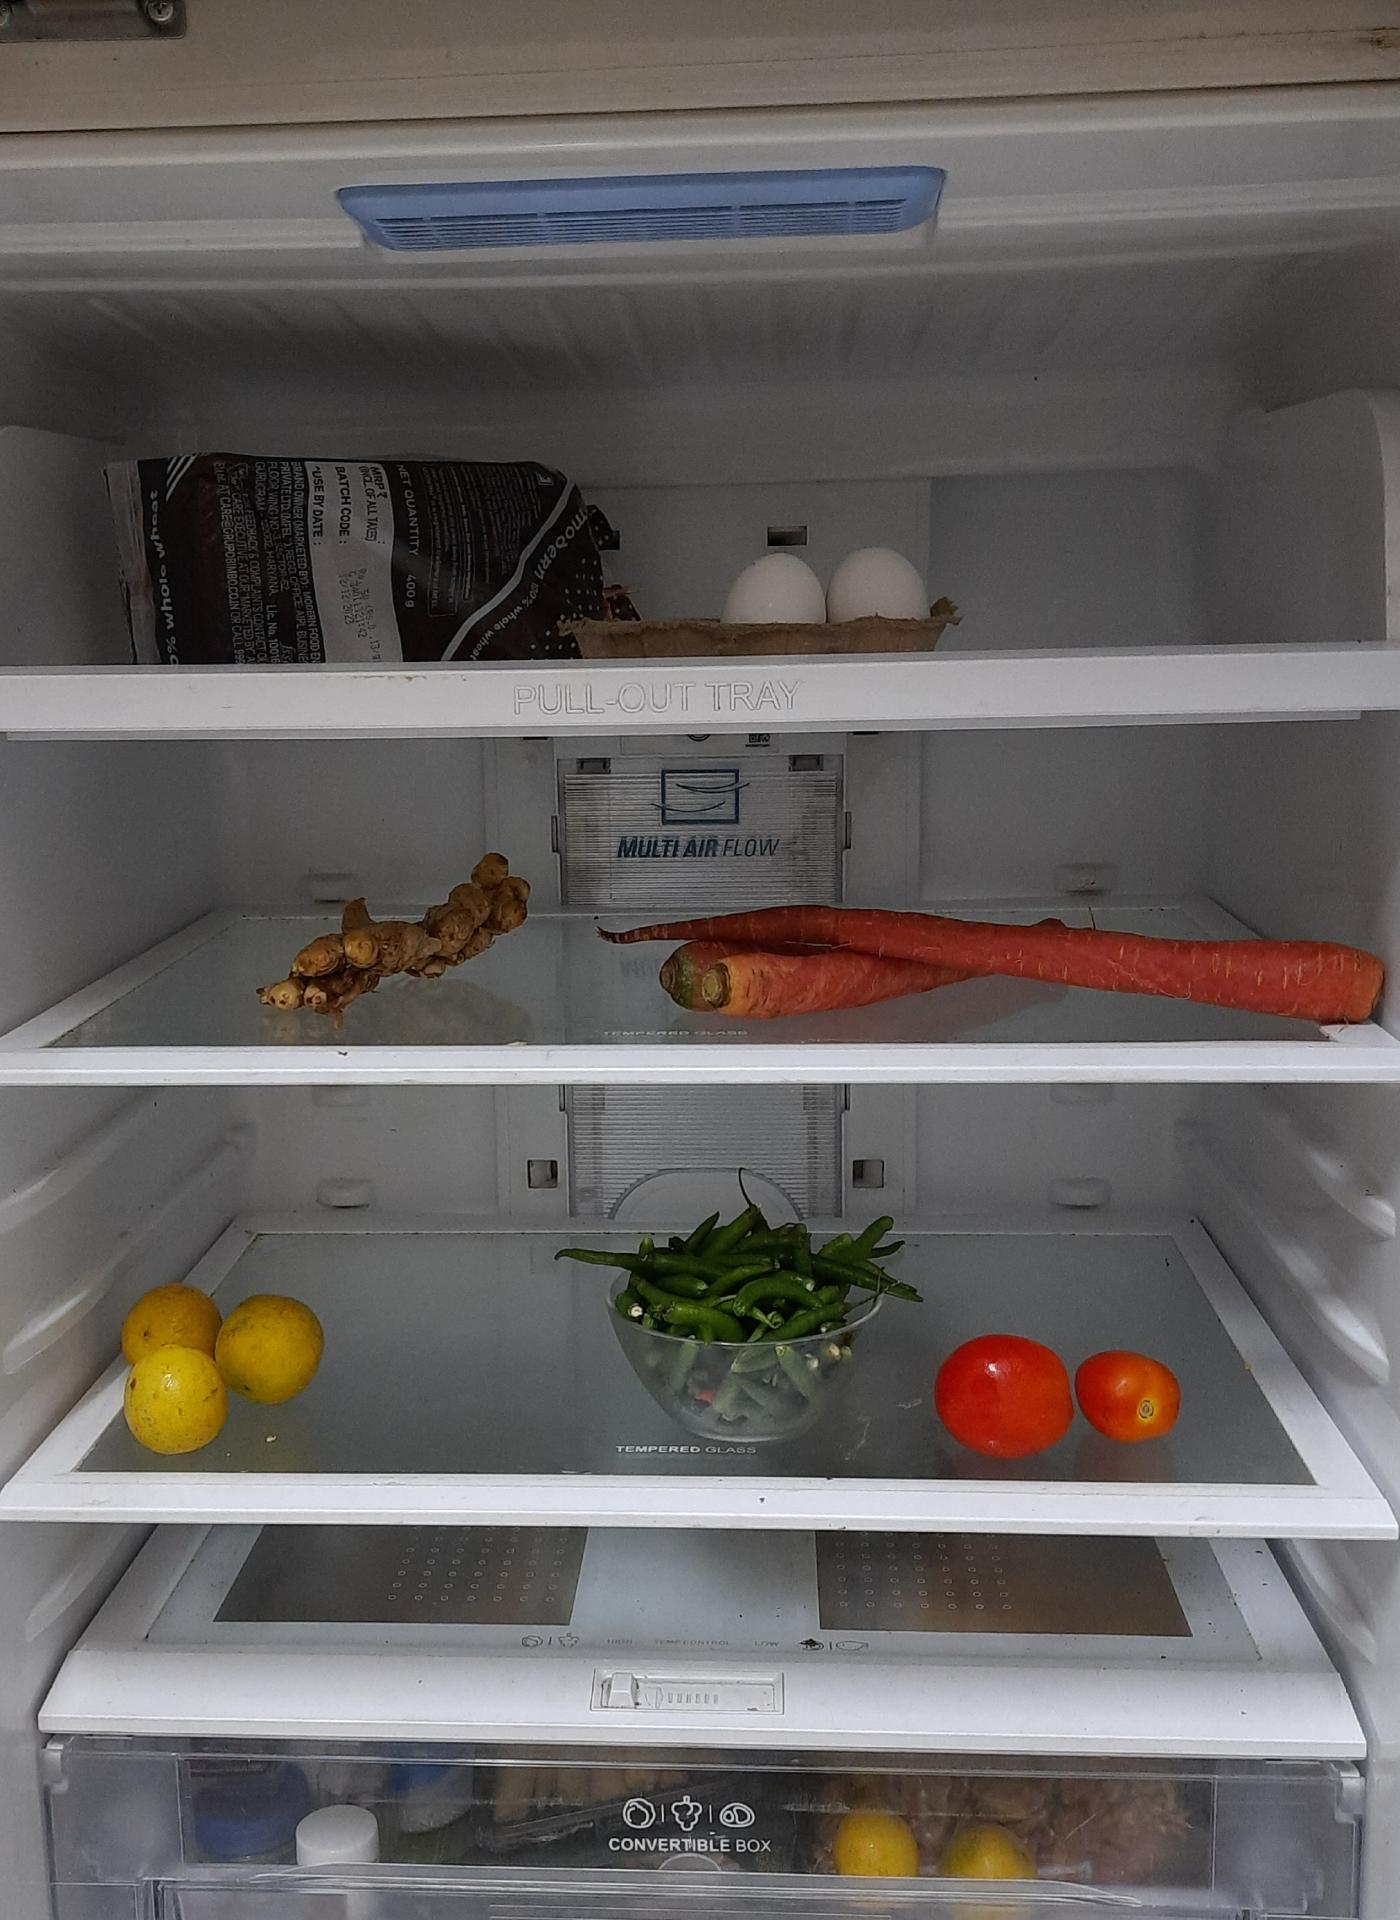bread: (112, 449, 632, 657)
carrots: (622, 900, 1400, 1024)
chillies: (616, 1206, 890, 1400)
egg: (725, 541, 944, 628)
ginger: (261, 859, 534, 1017)
lemon: (116, 1276, 324, 1446)
tomato: (939, 1339, 1188, 1464)
